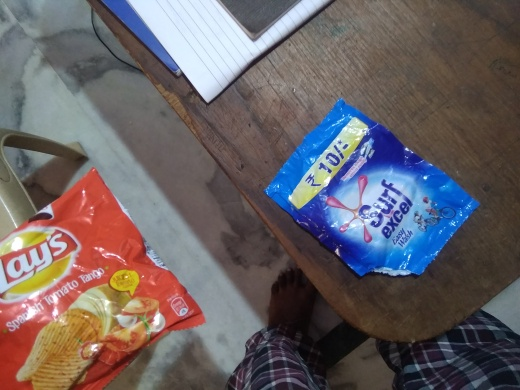lays: (2, 168, 208, 390)
surf: (259, 94, 494, 282)
